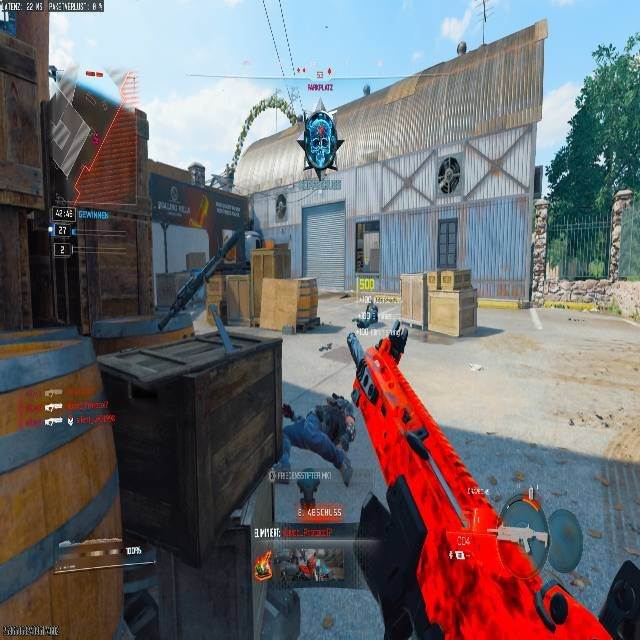player: (281, 394, 355, 504), (353, 300, 379, 328), (355, 247, 364, 271)
